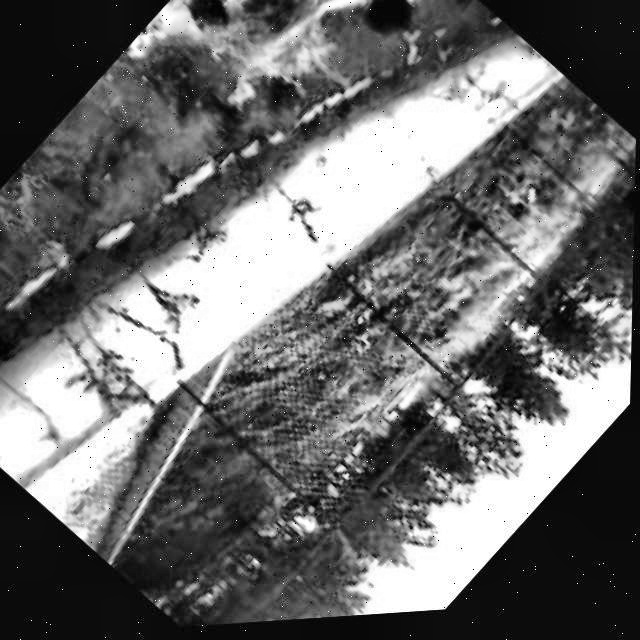Fire: (168, 0, 255, 71)
